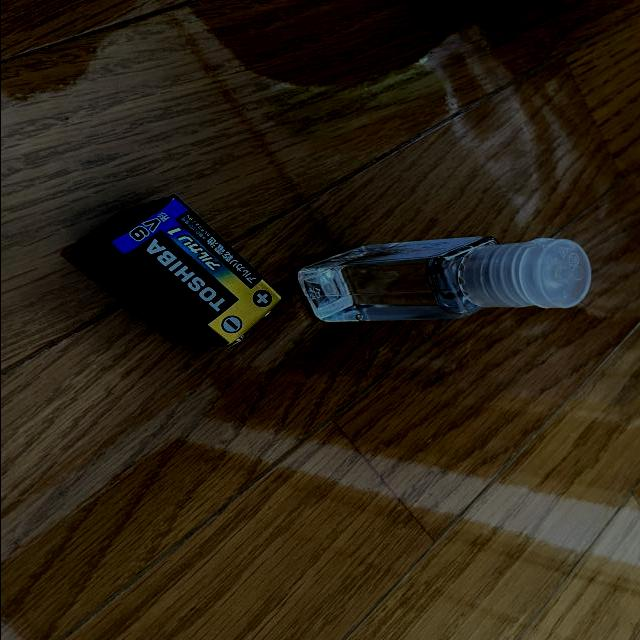9V: (78, 195, 282, 348)
